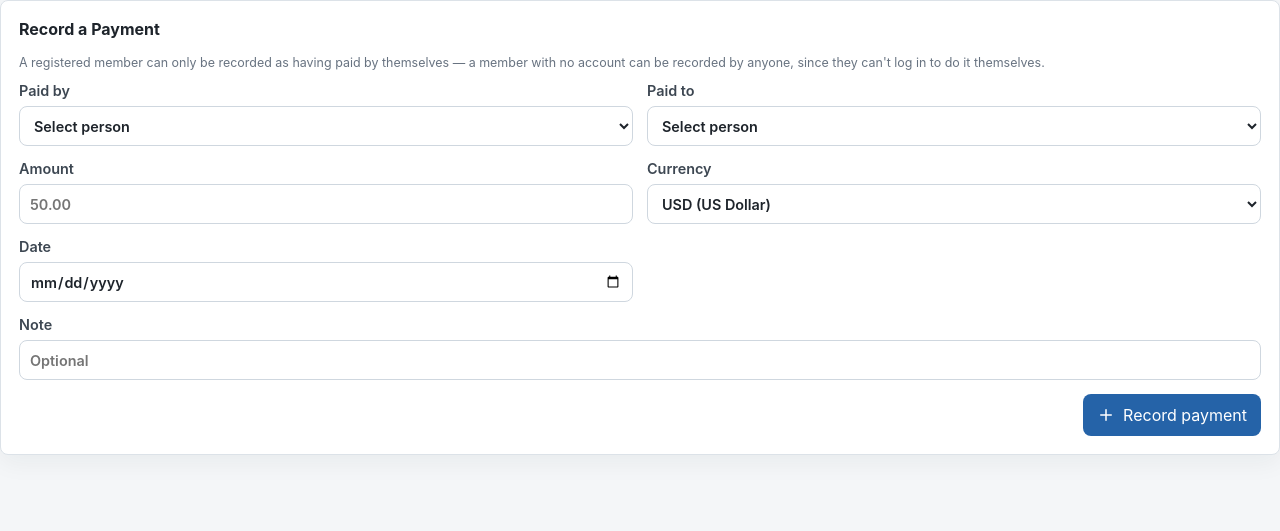
PaymentsPanel › shows an error when the amount is not greater than 0
This screenshot has width=1280, height=531.
Select "Gujing" in the dropdown labelled "Paid by": (326, 126) [19,106,633,146]
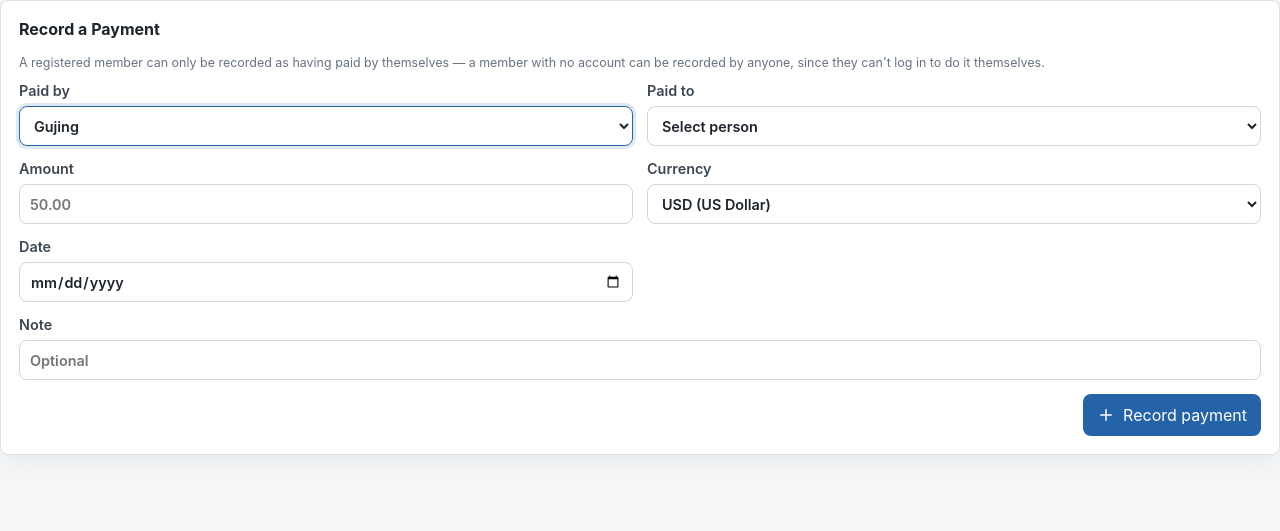
Select "Anita" in the dropdown labelled "Paid to": (954, 126) [647,106,1261,146]
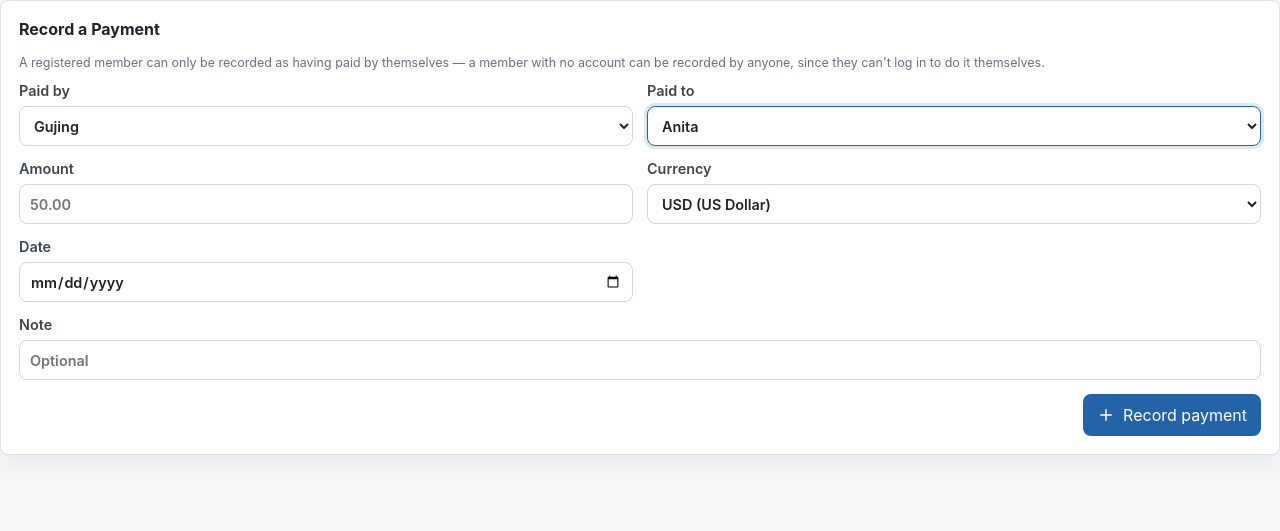
Click the button "Record payment": (1172, 416) [1083,394,1261,436]
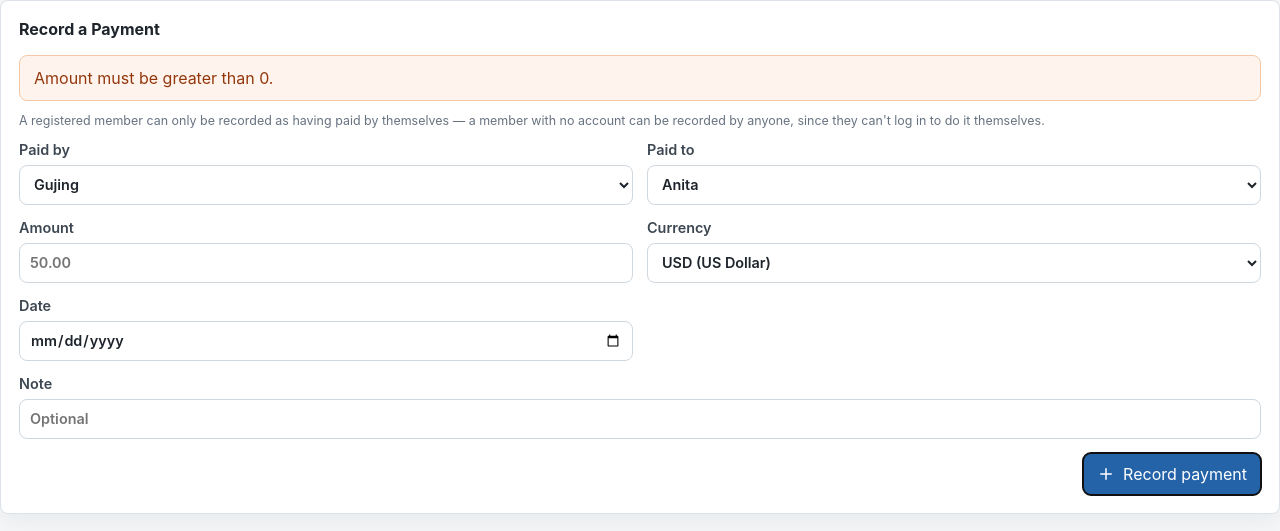
expect the text "Amount must be greater than 0." is shown: met, box [19,55,1261,101]
